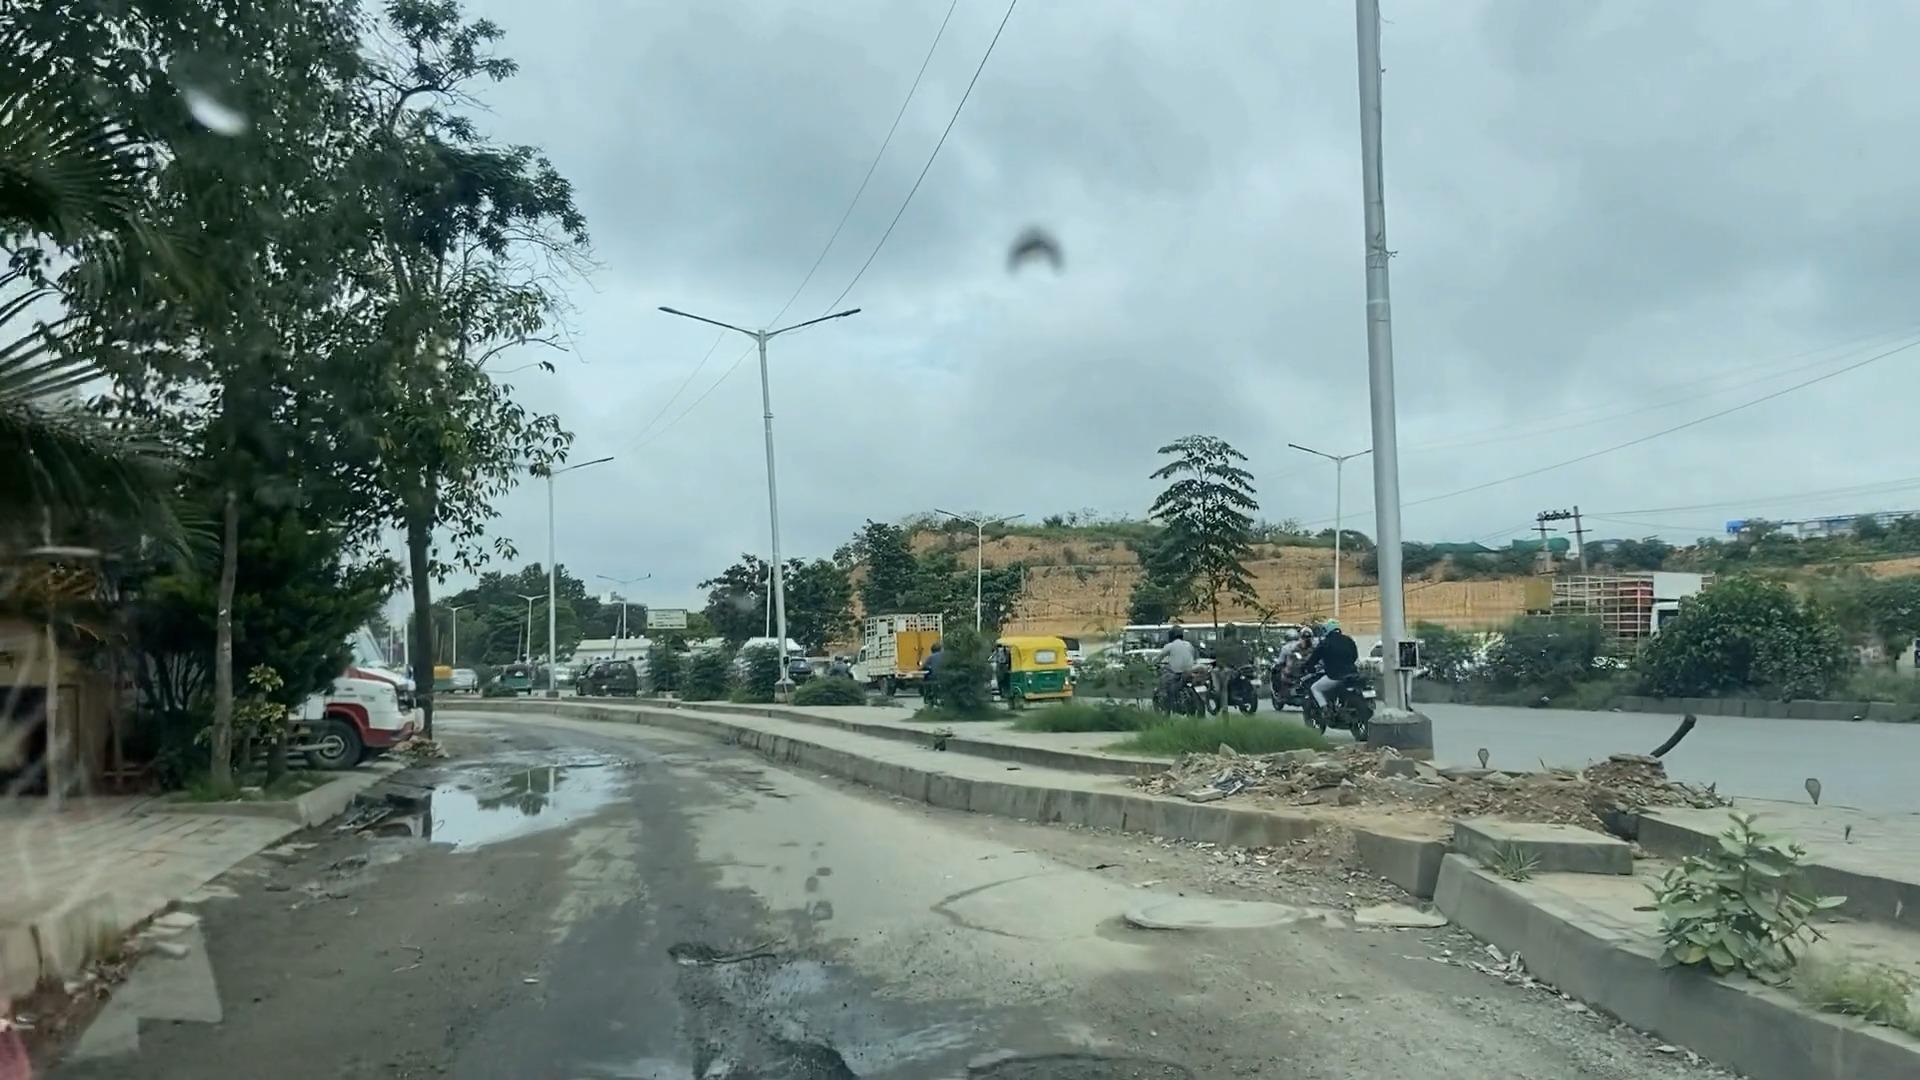RoadDamages: (677, 937, 960, 1080), (1103, 880, 1365, 950), (968, 1033, 1233, 1080)
